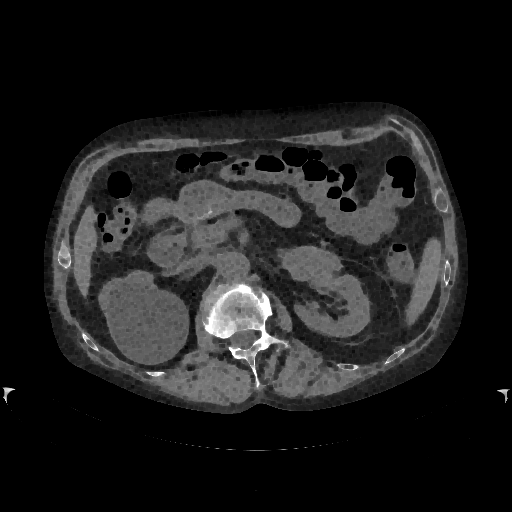Lesion: (281, 241, 349, 291)
